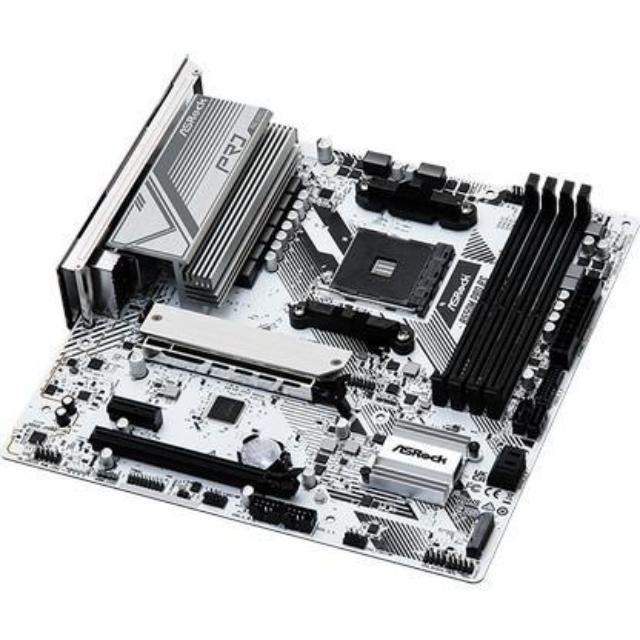Mainboard: (7, 47, 638, 584)
